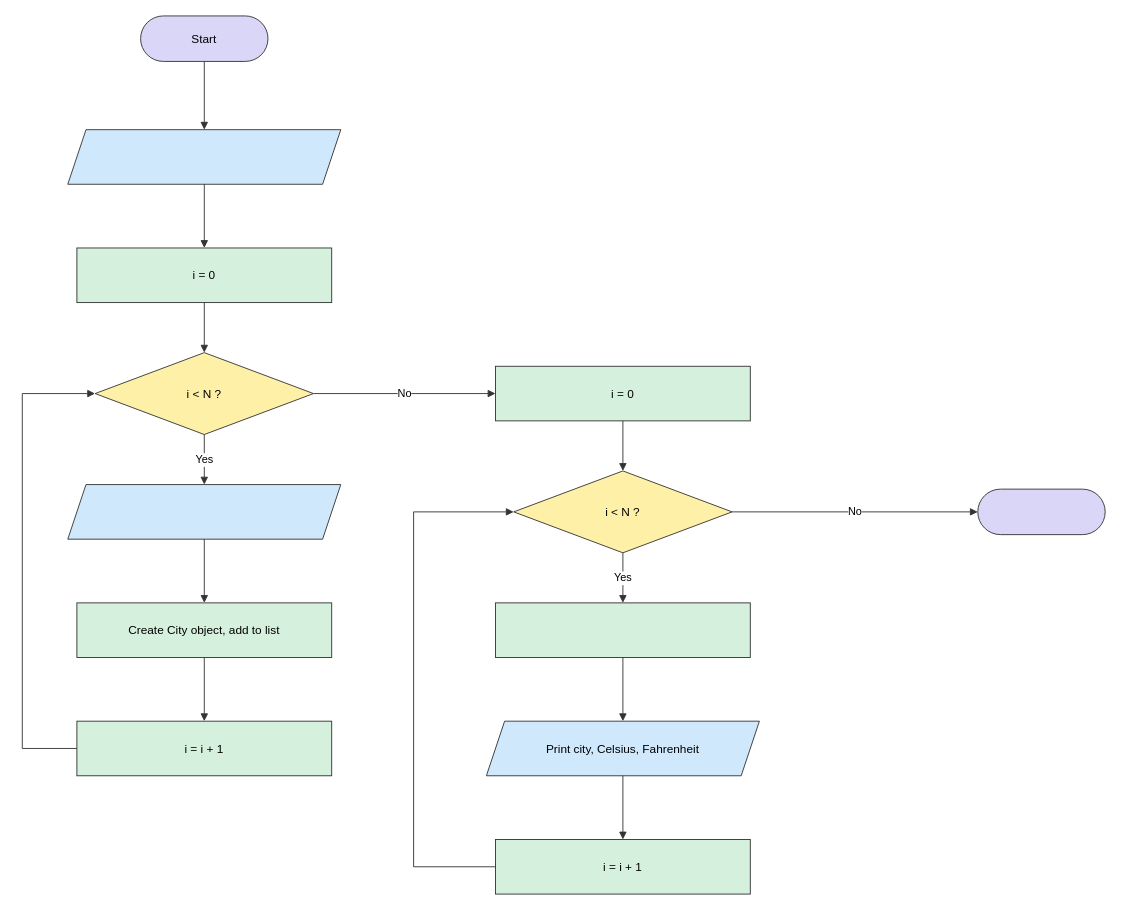
The diagram is 1121 pixels wide and 910 high, and some of its shapes have lost their labels. Here are the shapes that lost their labels. From the top down, the centre of each, then its label:
the point at 204,156: Input N (number of cities)
the point at 204,511: Input city name, Celsius
the point at 1041,511: End
the point at 622,629: F = (C x 9/5) + 32
